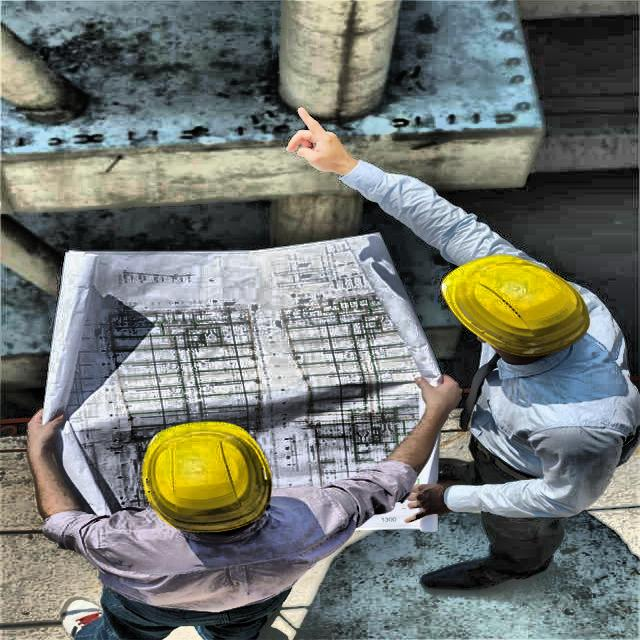helmet: (442, 254, 590, 363), (139, 420, 275, 529)
